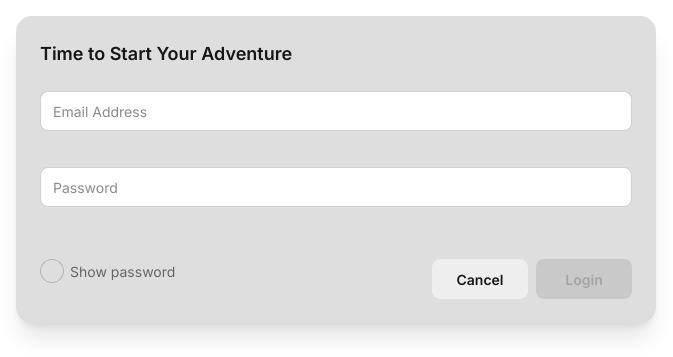
Test case: Login Page › Password › required error › is displayed after tabbing out of the input
Click the password field labelled "Password": (336, 187) x1=40 y1=167 x2=632 y2=207
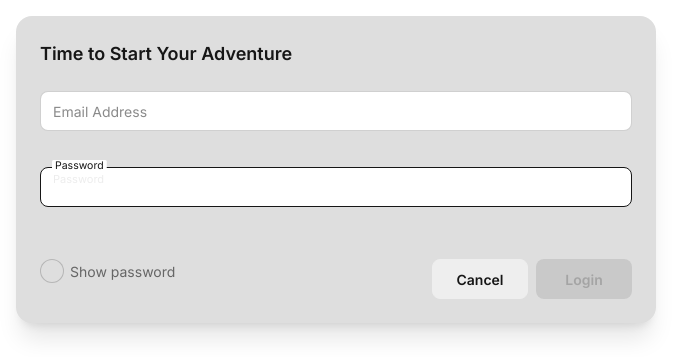
Press Tab
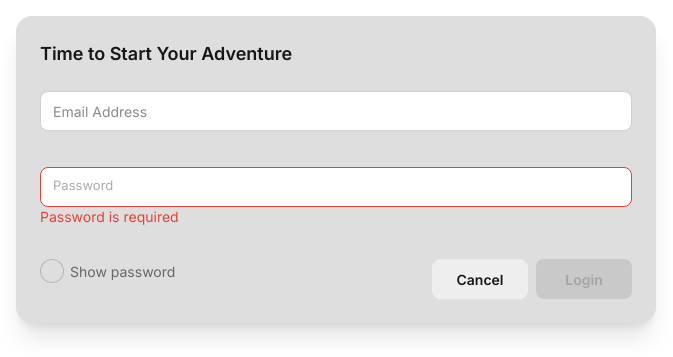
Now the text "Password is required" is shown, box x1=40 y1=208 x2=179 y2=225
